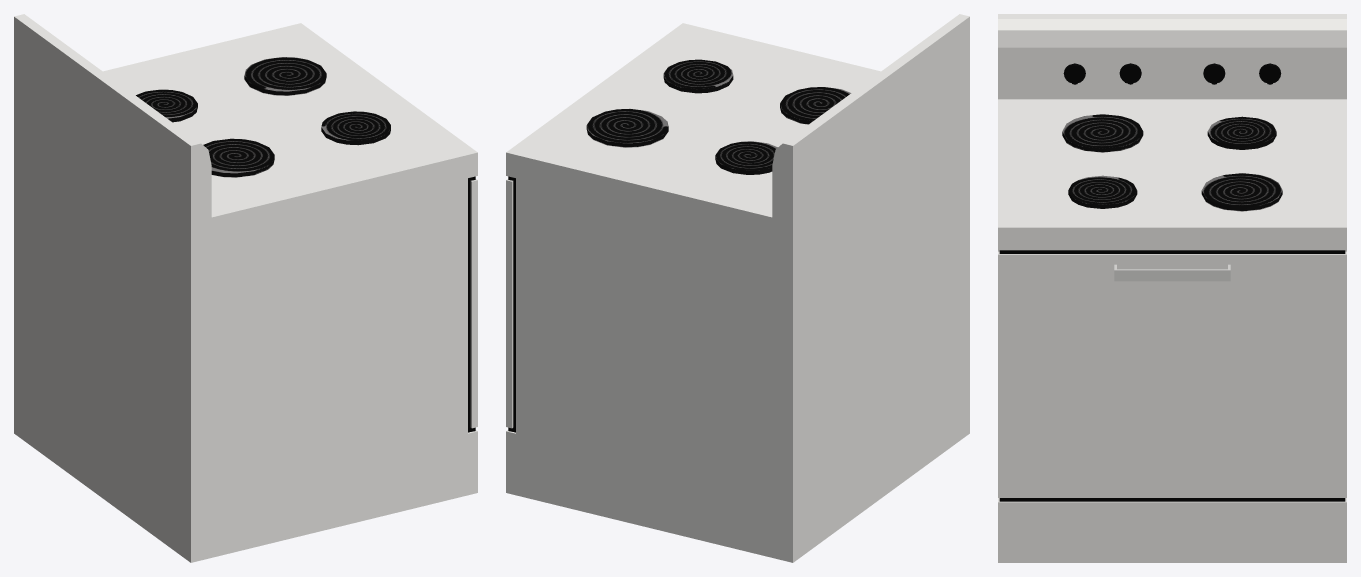
File: stove.fbx
3 renders of one model, left to right at view 1: azimuth 30°, elevation 25°; view 2: azimuth 150°, elevation 25°; view 3: azimuth 270°, elevation 25°, orthographic.
Parts seen in each view (by area): view 1: stove; view 2: stove; view 3: stove.
Boxes of the visible parts, x1,y1,x2,y2 form: stove: [14, 14, 477, 562]; stove: [506, 14, 969, 562]; stove: [998, 14, 1346, 562].
Bounding box in the file's own units: 195 × 260 × 200.
3 materials, 3 textured.
